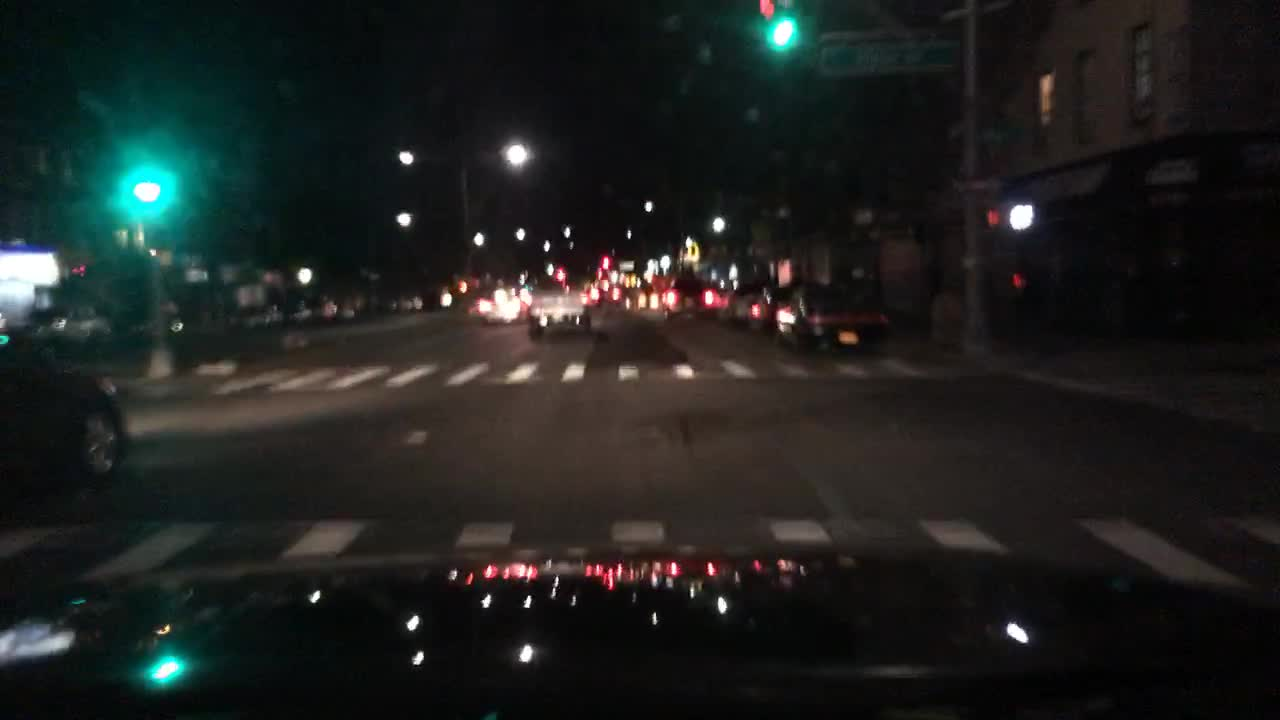car: (1001, 211, 1211, 342), (0, 327, 130, 504), (26, 251, 183, 362), (771, 276, 892, 353), (525, 282, 592, 337), (719, 278, 773, 329), (659, 274, 711, 320), (478, 287, 530, 325), (227, 301, 285, 330), (702, 278, 734, 321), (624, 274, 660, 309), (318, 293, 355, 322), (284, 295, 316, 325), (587, 278, 622, 305), (392, 290, 424, 312)
traffic light: (763, 4, 803, 48), (991, 197, 1038, 230), (130, 176, 163, 208)
traffic sign: (814, 29, 965, 81), (971, 120, 1022, 145), (952, 171, 1003, 193), (618, 258, 634, 273)
